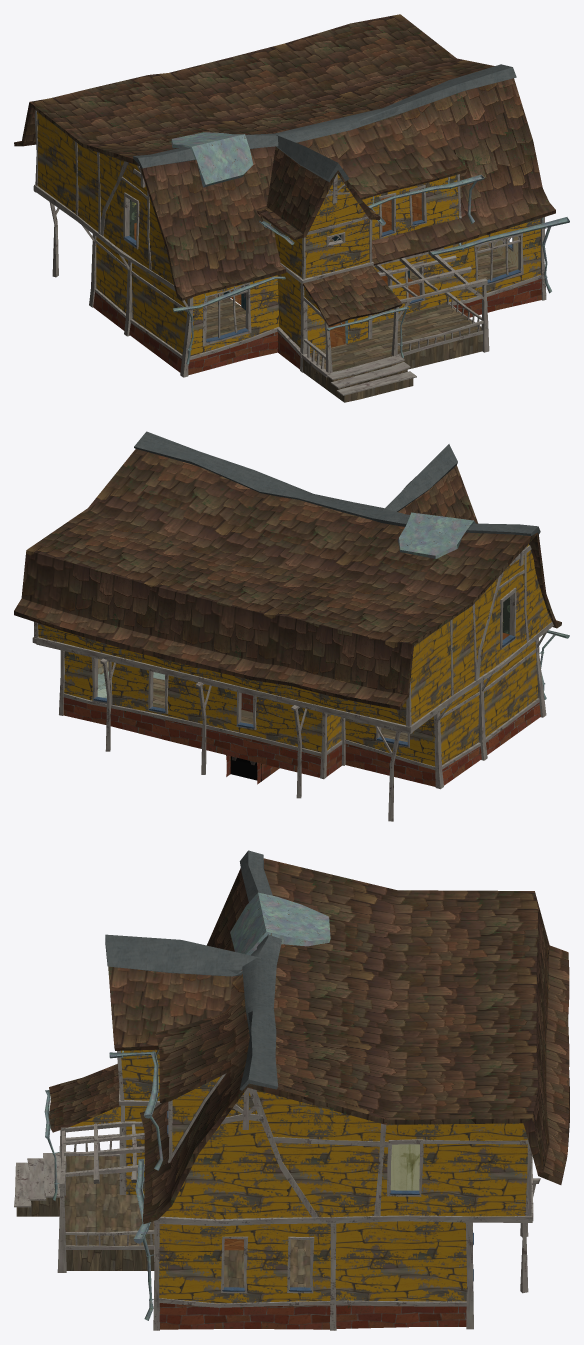
The model's file is hn_showcase_-_neighbors_house_recreation.glb.
The picture shows the model from 3 angles, top to bottom: view 1: azimuth 30°, elevation 25°; view 2: azimuth 150°, elevation 25°; view 3: azimuth 270°, elevation 25°; orthographic projection. The views are drawn at different scales.
Visible parts, largest first — view 1: outside, bedroom1f, kitchen, hallway2f; view 2: outside, basement, bathroom; view 3: outside, kitchen, hallway2f.
Boxes of the visible parts, box(x1,y1,x2,y2) form: outside: box(14, 14, 569, 402); bedroom1f: box(206, 285, 245, 338); kitchen: box(410, 236, 518, 284); hallway2f: box(381, 189, 421, 232); outside: box(14, 431, 569, 821); basement: box(226, 755, 279, 784); bathroom: box(97, 659, 164, 708); outside: box(14, 850, 569, 1330); kitchen: box(224, 1239, 310, 1287); hallway2f: box(390, 1144, 419, 1190).
Size of the model in its own units: 29.68 by 19.12 by 29.59.
23 materials, 21 textured.
